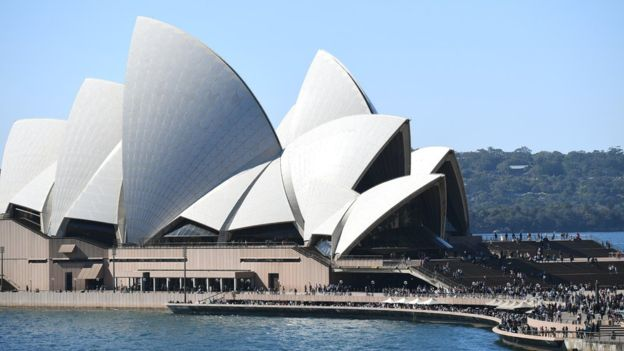opera house: (2, 9, 527, 289)
